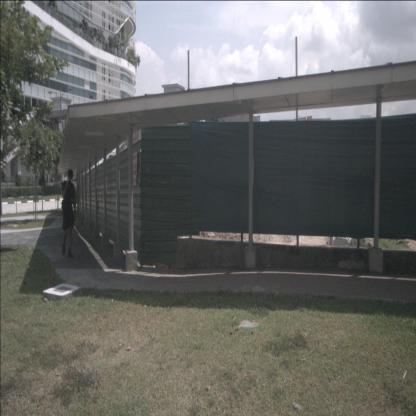human-pedestrian-adult: (62, 169, 76, 258), (46, 174, 48, 187)
